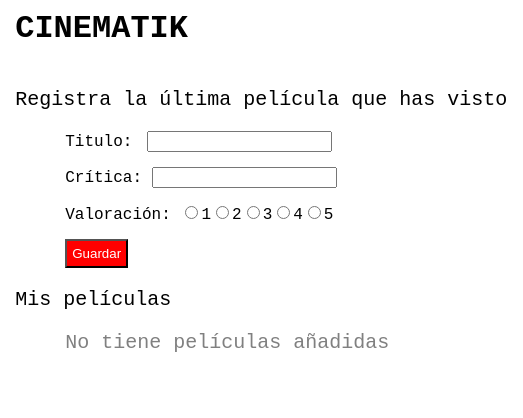
Añade una película
In the field labelled "Titulo:": (240, 142) x1=147 y1=131 x2=332 y2=152, type "Star Wars"
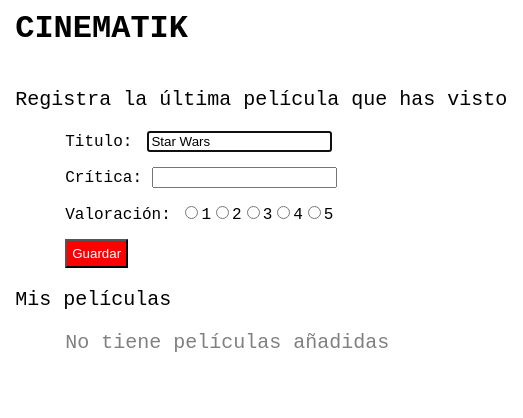
Click the button "Guardar": click(97, 254) x1=65 y1=239 x2=128 y2=268
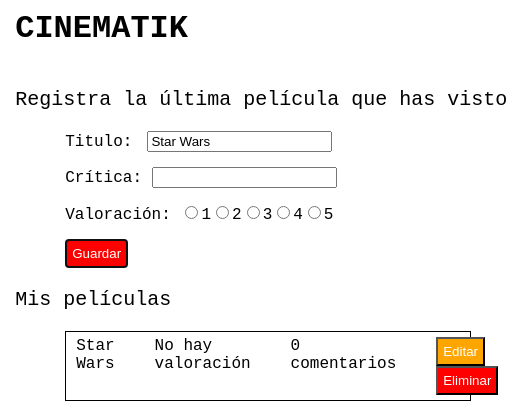
Check: the text "Star Wars" is shown, box x1=76 y1=337 x2=115 y2=395
